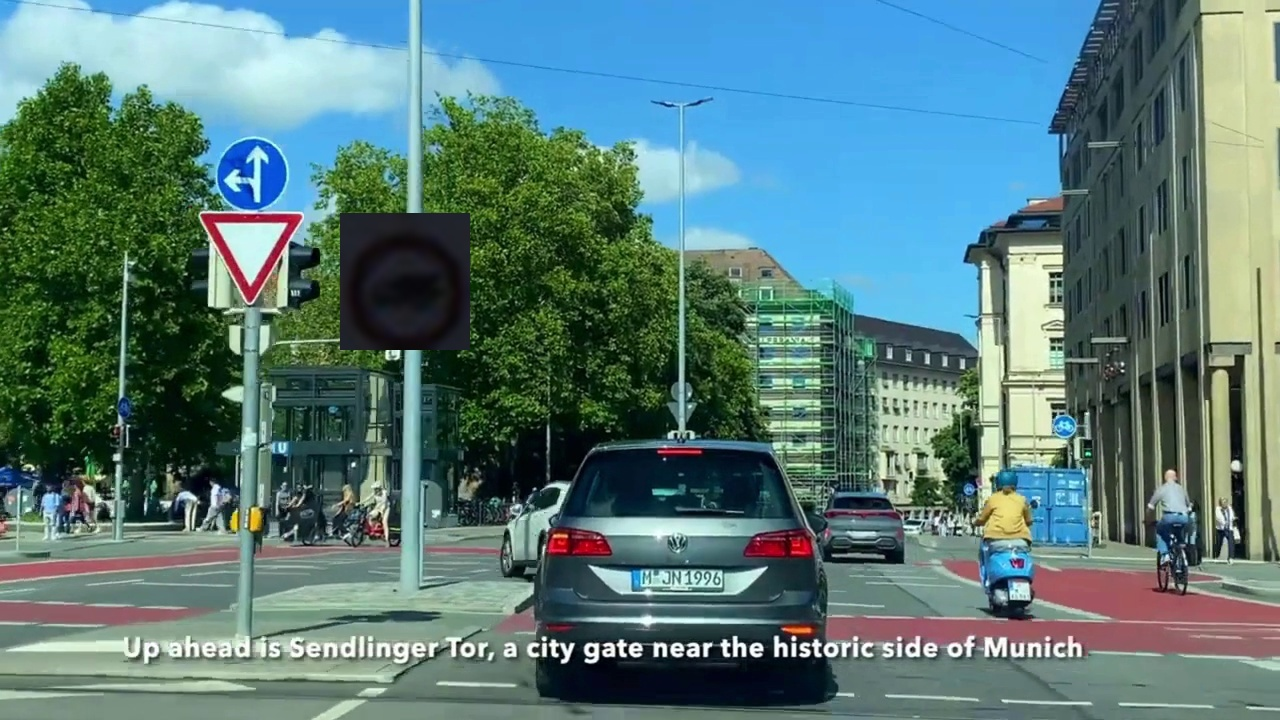Veh >3.5t prohib: (340, 213, 470, 350)
